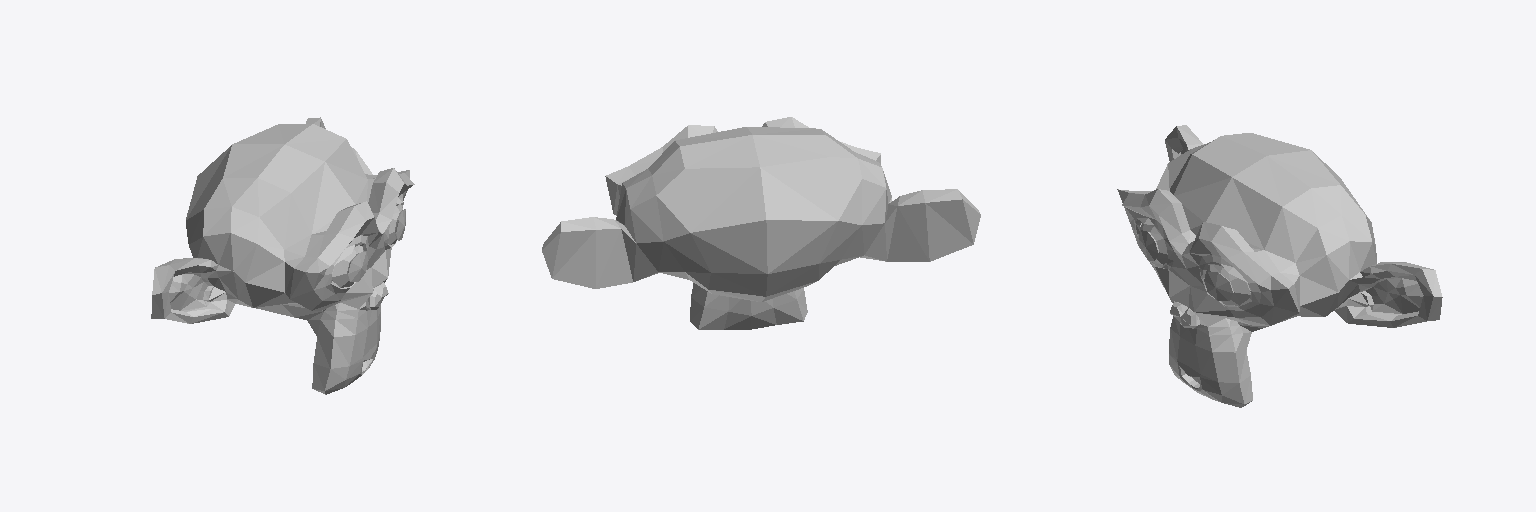
File: monkey.obj
The picture shows the model from 3 angles: view 1: azimuth 30°, elevation 25°; view 2: azimuth 150°, elevation 25°; view 3: azimuth 270°, elevation 25°; orthographic projection.
Bounding box in the file's own units: 9.95 × 6.66 × 8.84.